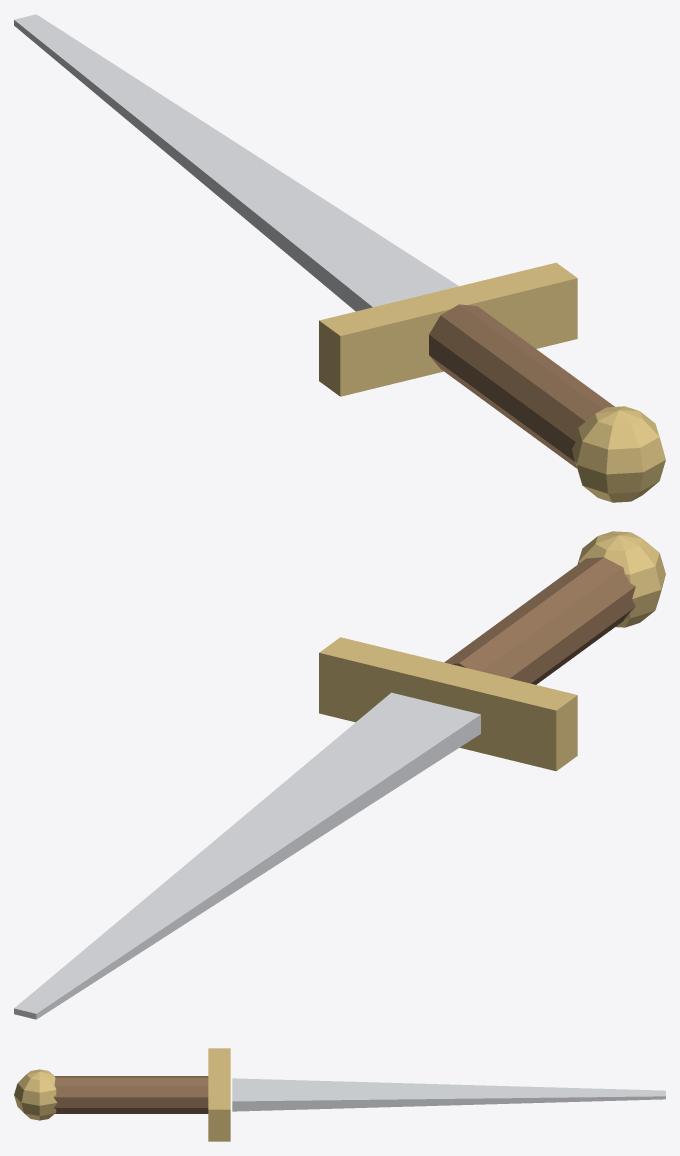
The model's file is dagger.glb.
3 views of the same model, one above another, from view 1: azimuth 30°, elevation 25°; view 2: azimuth 150°, elevation 25°; view 3: azimuth 270°, elevation 25° (orthographic). The views are drawn at different scales.
Parts seen in each view (by area): view 1: dagger; view 2: dagger; view 3: dagger.
Boxes of the visible parts, x1,y1,x2,y2 form: dagger: (14,14,665,502); dagger: (14,531,665,1019); dagger: (14,1048,665,1141).
Size of the model in its own units: 0.09 by 0.032 by 0.406.
